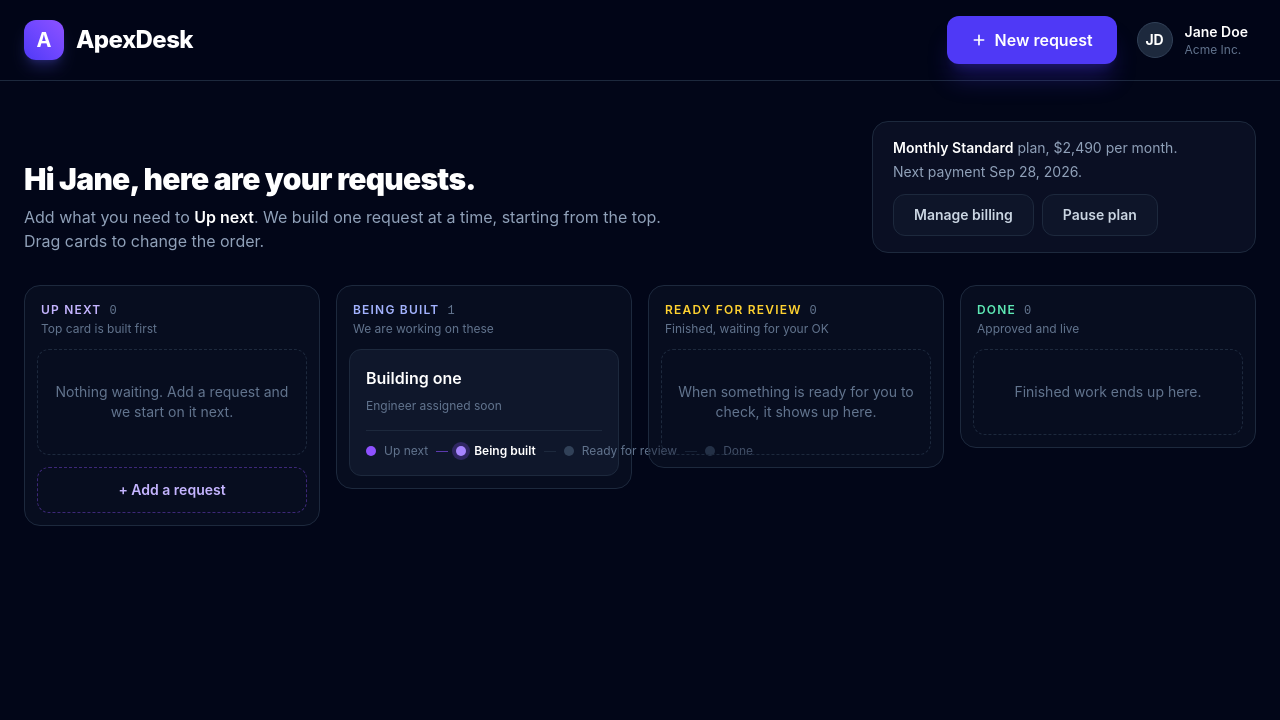
Test: DashboardPage request modal › is read-only for requests already in a sprint
Expected: the heading "Up next 0" is shown, [41, 302, 117, 318]
Click the button that starts with "Building one".
click(484, 412)  # box [350, 350, 618, 475]
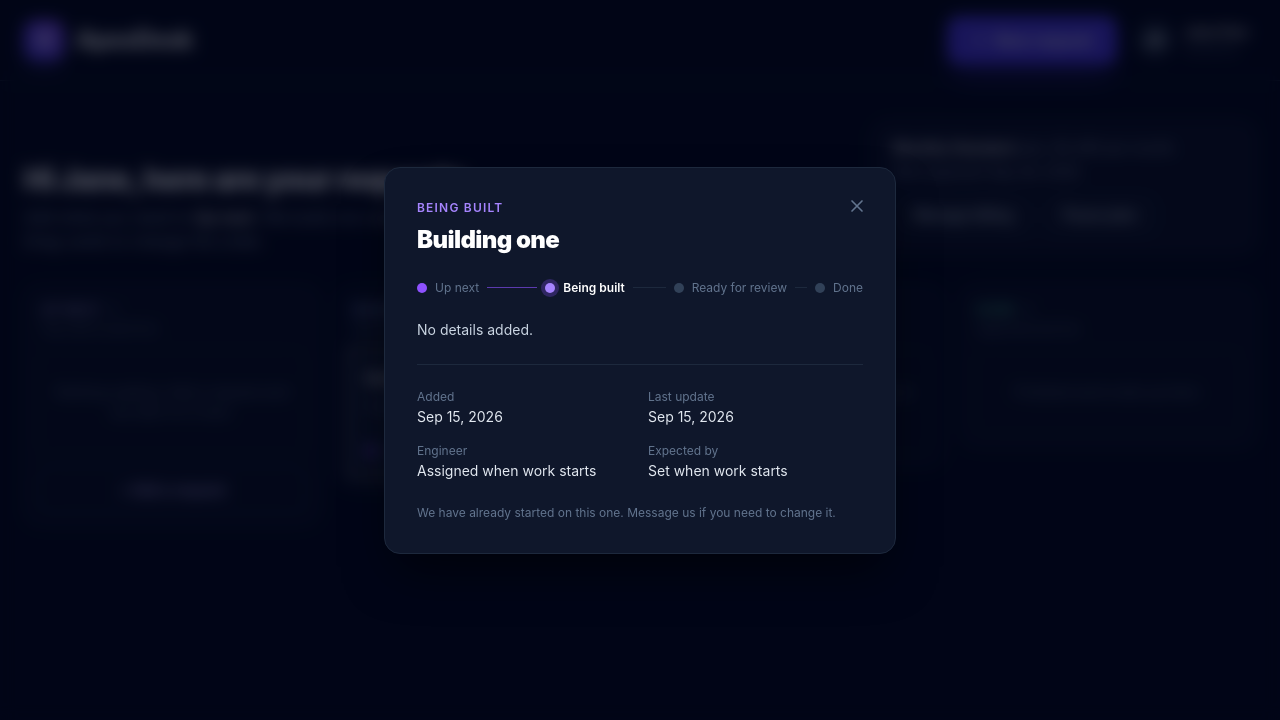
Now the text "already started on this one" is shown, box [417, 504, 836, 520]
